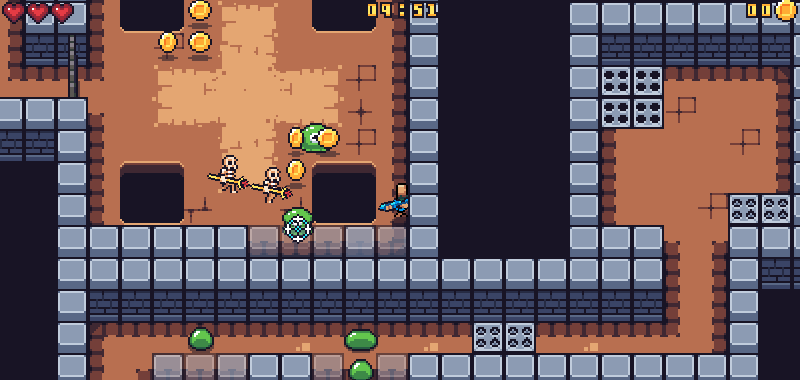enemy_skeleton: (207, 153, 250, 195), (252, 167, 293, 204)
enemy_slug: (342, 329, 378, 353)
enemy_slug_big: (186, 325, 214, 353), (345, 356, 376, 380)
gold: (185, 30, 212, 55), (185, 1, 215, 22), (315, 126, 340, 151), (155, 32, 182, 54), (285, 159, 306, 182), (285, 126, 305, 150)
trap_door: (58, 24, 85, 106)
trap_off: (599, 65, 665, 129), (728, 193, 789, 225), (473, 322, 535, 353)
